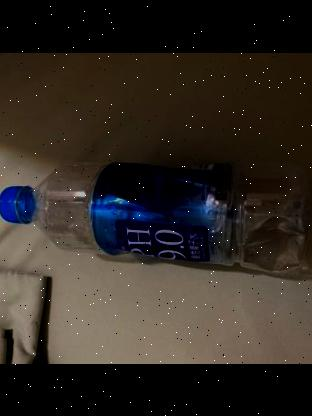Plastic Bottle: (0, 131, 312, 300)
